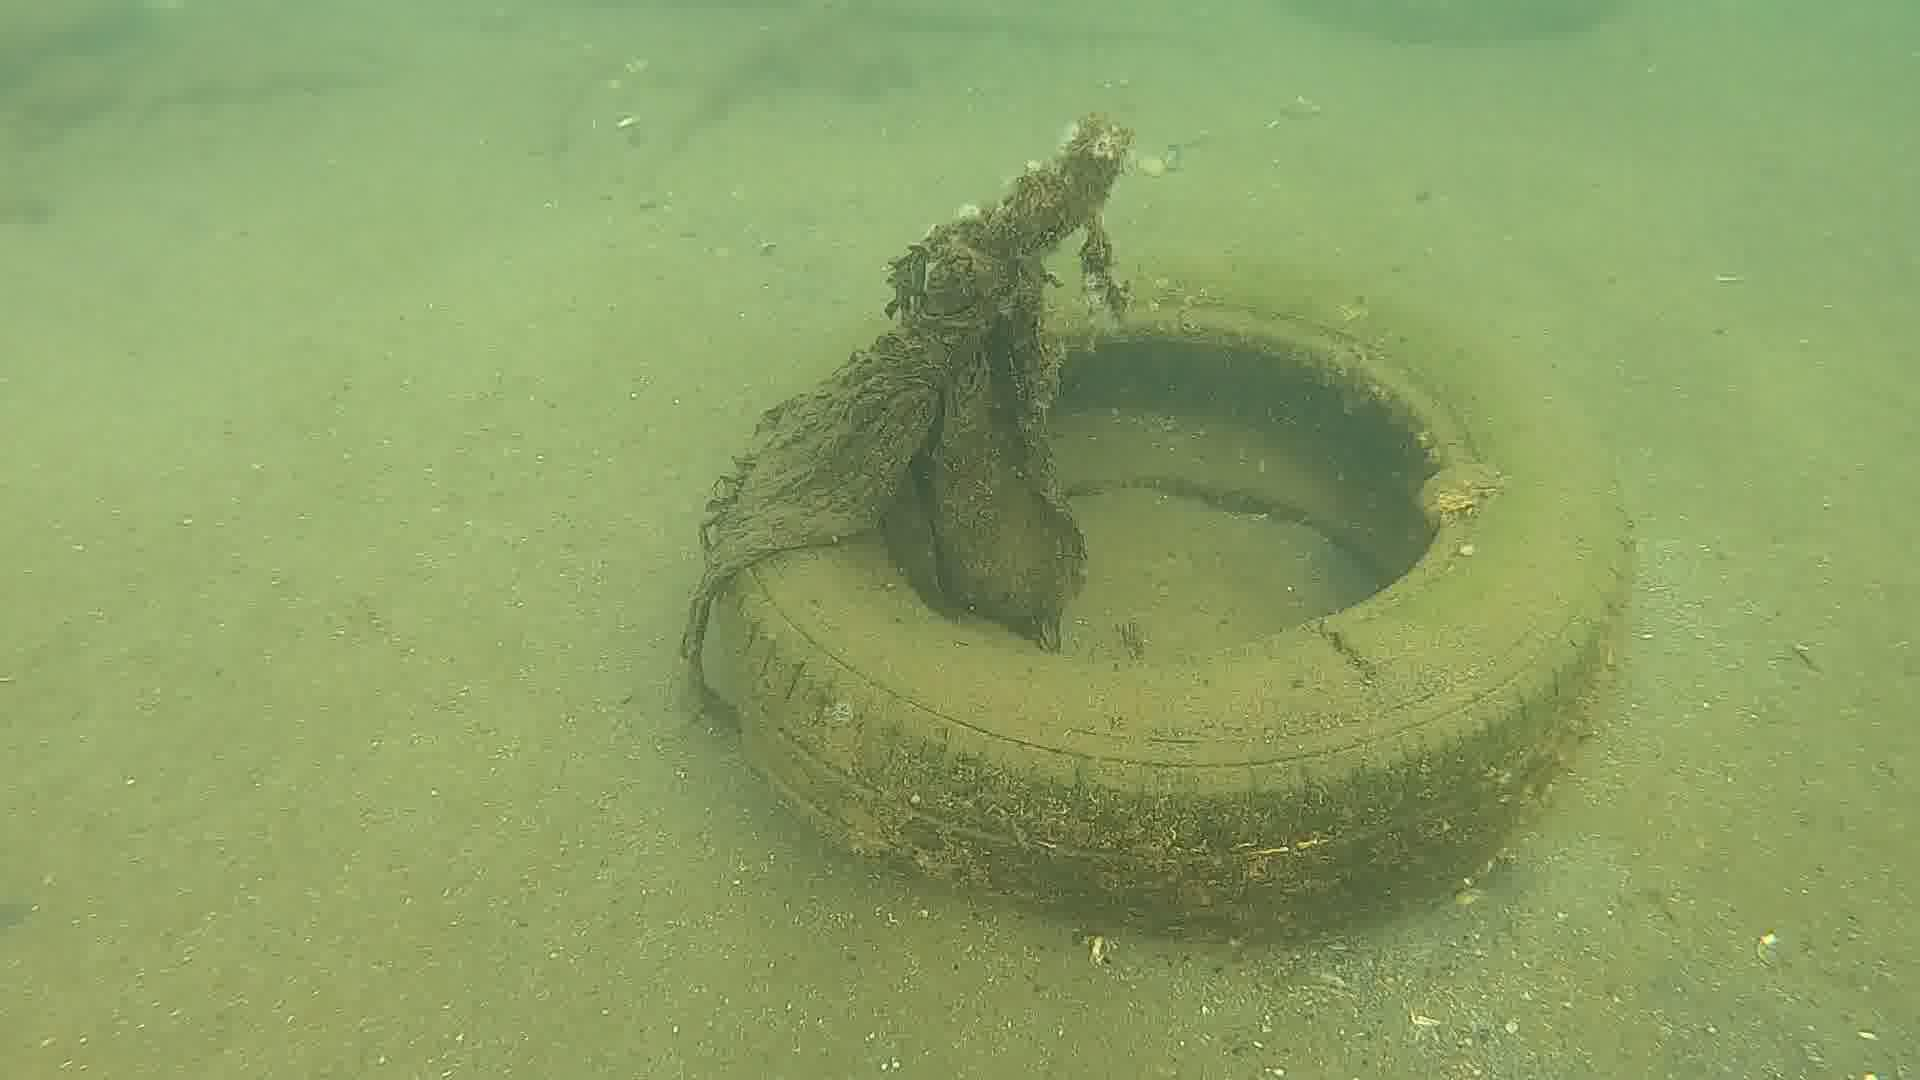tire: (719, 257, 1639, 945)
